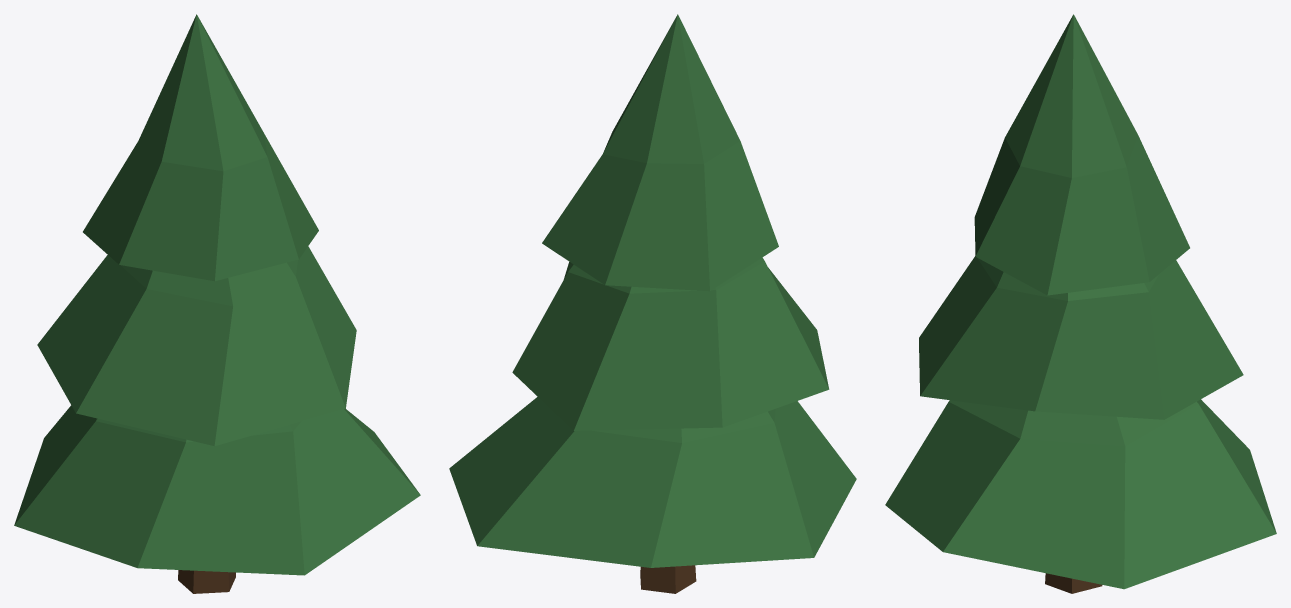
The model's file is deco_pine_l.glb.
The picture shows the model from 3 angles, left to right: view 1: azimuth 30°, elevation 25°; view 2: azimuth 150°, elevation 25°; view 3: azimuth 270°, elevation 25°; orthographic projection.
Visible parts, largest first — view 1: deco_pine_l_mesh; view 2: deco_pine_l_mesh; view 3: deco_pine_l_mesh.
Part boxes in pixels (bbox=[...]): deco_pine_l_mesh: bbox=[14, 14, 420, 593]; deco_pine_l_mesh: bbox=[449, 14, 856, 593]; deco_pine_l_mesh: bbox=[885, 14, 1276, 593].
Bounding box in the file's own units: 0.3058 × 0.46 × 0.2909.
